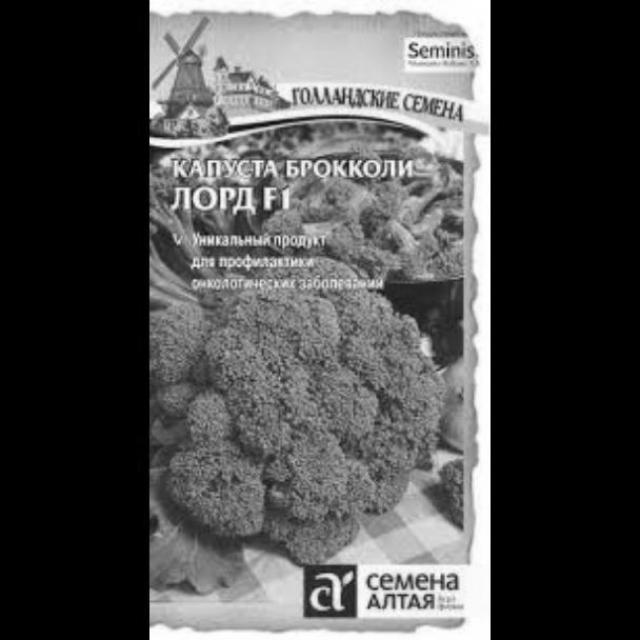bong cai xanh: (150, 253, 425, 553)
